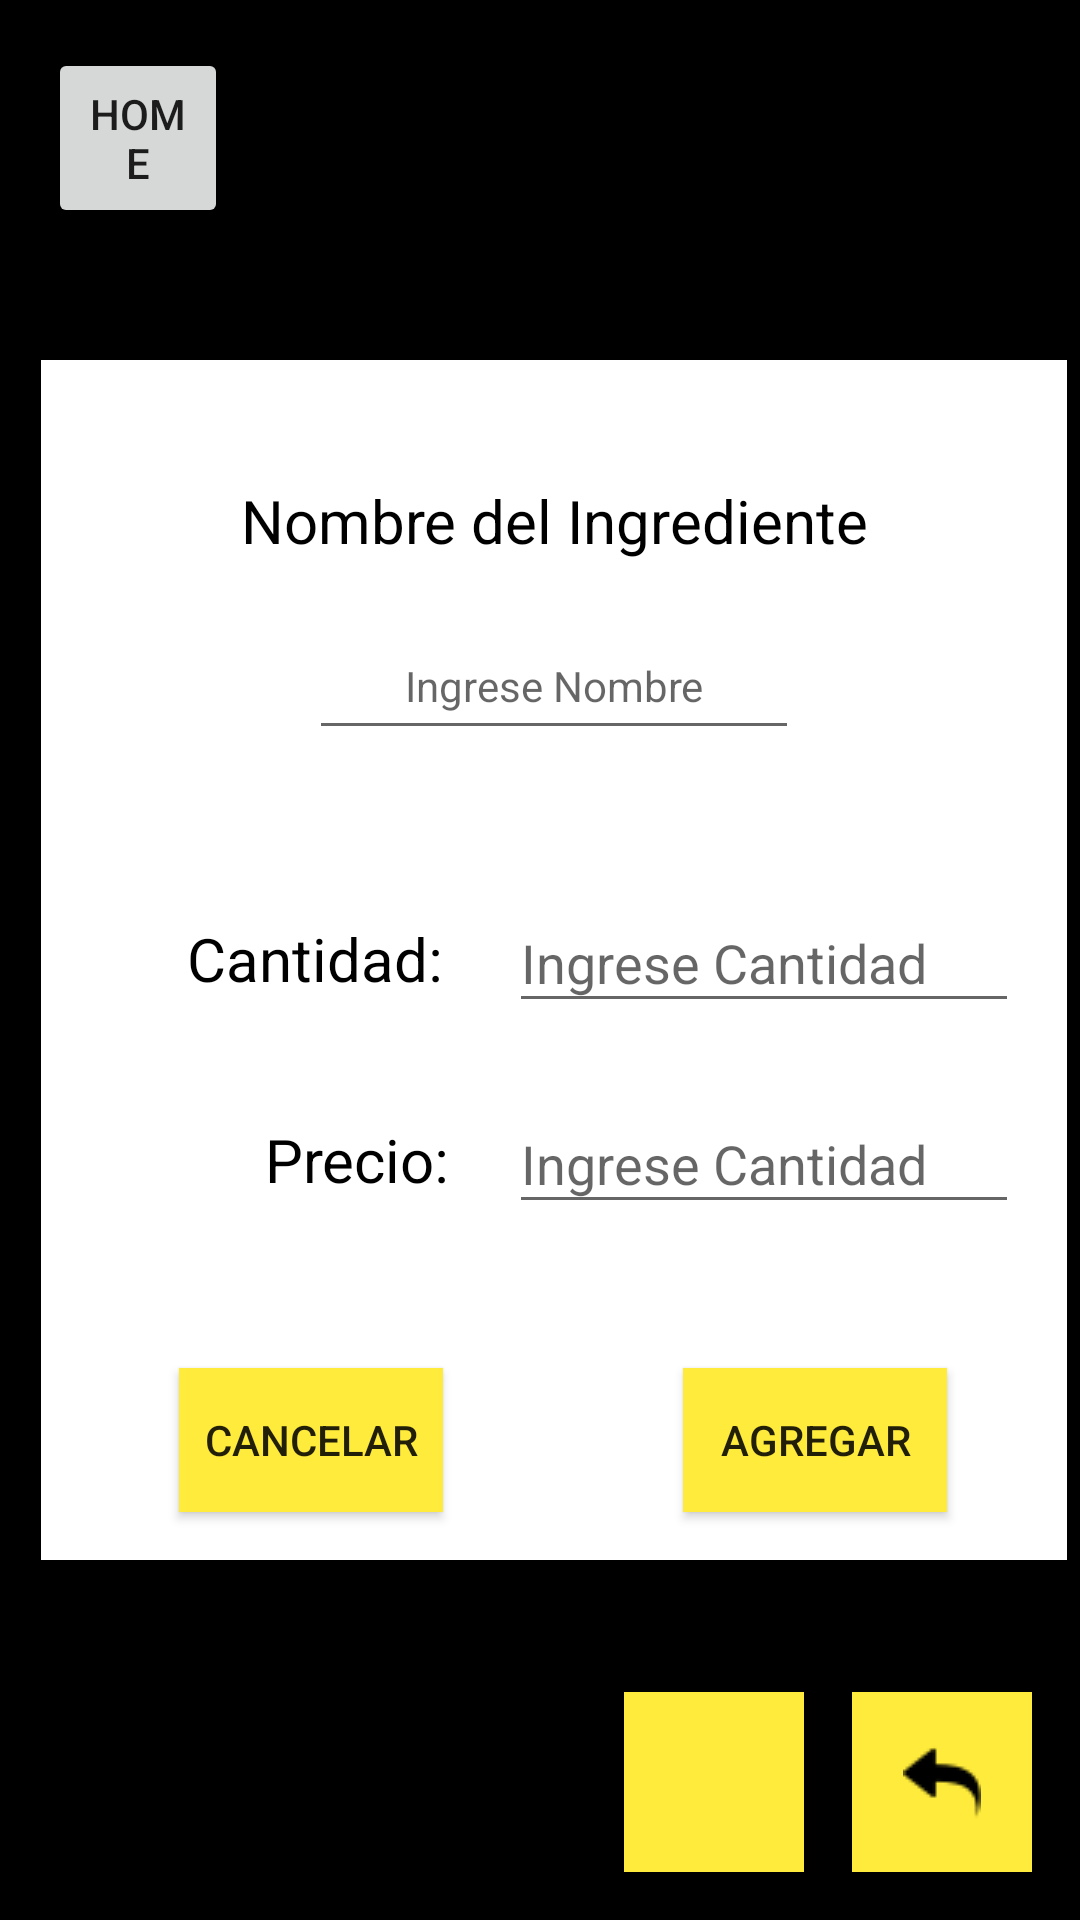

Where icons sit on this 1080 × 1920 app screen, as (x1, y1, x2, y2):
Regresar: (852, 1692, 1032, 1872)
